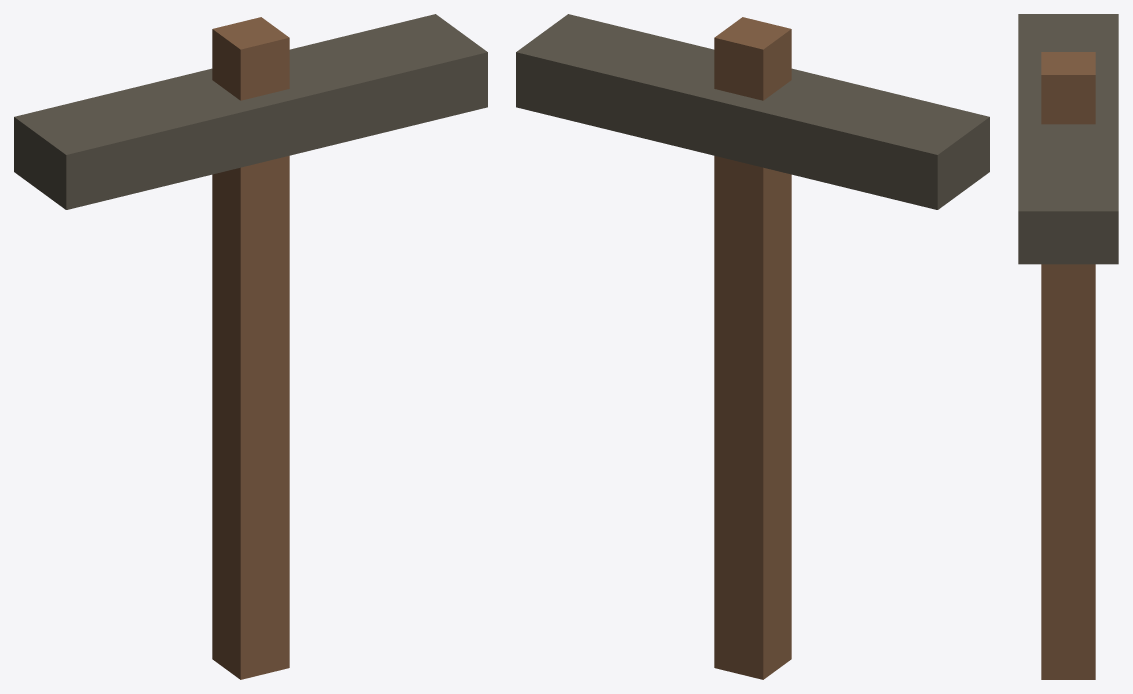
File: acc_tool_hoe.glb
3 renders of one model, left to right at view 1: azimuth 30°, elevation 25°; view 2: azimuth 150°, elevation 25°; view 3: azimuth 270°, elevation 25°, orthographic. The views are drawn at different scales.
Visible parts, largest first — view 1: acc_tool_hoe; view 2: acc_tool_hoe; view 3: acc_tool_hoe.
Boxes of the visible parts, <box> form: acc_tool_hoe: <box>14,14,487,679</box>; acc_tool_hoe: <box>516,14,989,679</box>; acc_tool_hoe: <box>1018,14,1118,679</box>.
Bounding box in the file's own units: 0.56 × 0.8 × 0.12.
Materials: 1 (1 with a texture image).
